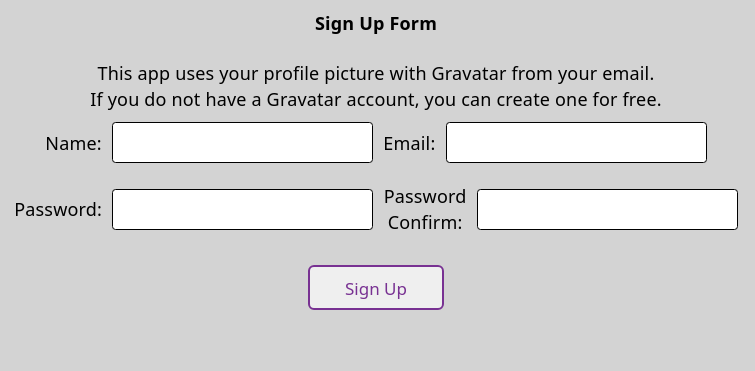
Test: SignUp component › shows a network error and restores the submit button
Click the button "Sign Up".
click(376, 287)  # box [308,265,444,310]
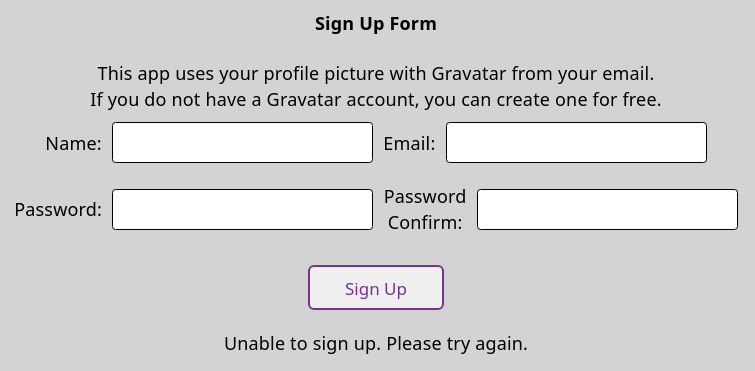
Result: the message reads "Unable to sign up. Please try again." at [224,330,528,354]
